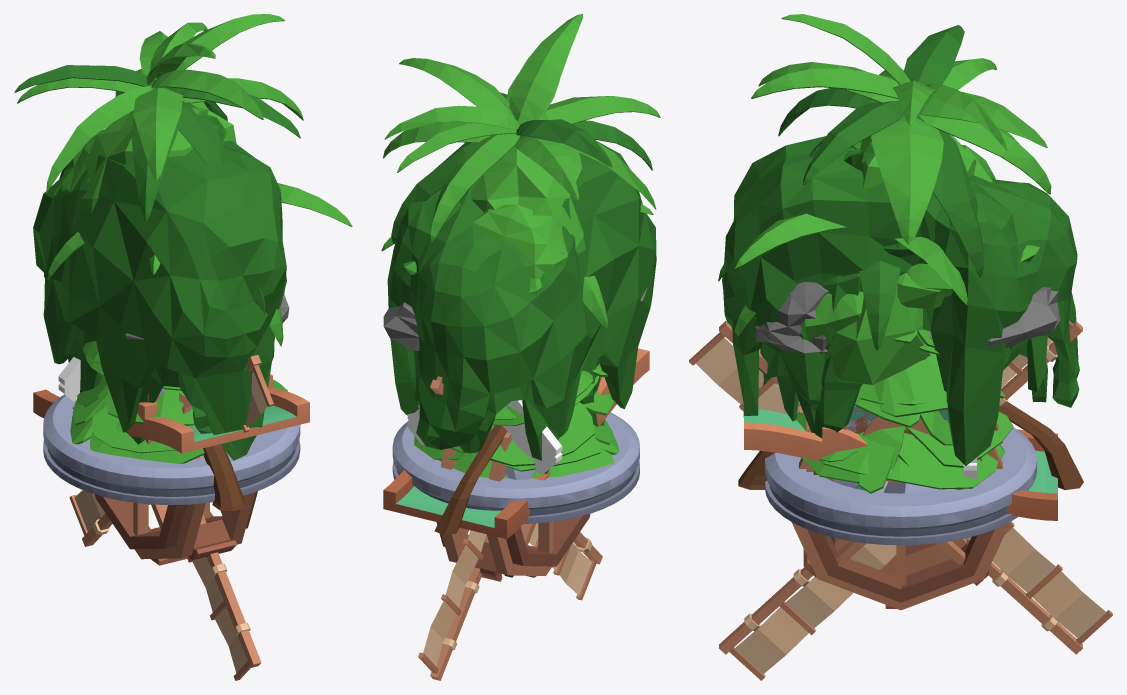
File: world.glb
The picture shows the model from 3 angles, left to right: view 1: azimuth 30°, elevation 25°; view 2: azimuth 150°, elevation 25°; view 3: azimuth 270°, elevation 25°; orthographic projection. The views are drawn at different scales.
Visible parts, largest first — view 1: n_Willow_2, n_PalmTree_1, t_fountain-round-detail, t_watermill, t_windmill, g_ramp-large, t_fountain-round, n_BirchTree_1, n_Willow_1, n_PalmTree_2, n_PineTree_1, n_PineTree_3 (+2 smaller); view 2: n_Willow_2, n_PalmTree_1, t_fountain-round-detail, t_windmill, t_watermill, n_BirchTree_1, n_CommonTree_2, g_ramp-large, n_PalmTree_2, n_Willow_1, n_PineTree_2, n_PineTree_3 (+5 smaller); view 3: n_Willow_2, n_PalmTree_1, t_windmill, t_fountain-round-detail, t_watermill, n_PalmTree_2, n_BirchTree_1, n_PineTree_2, g_ramp-large, n_CommonTree_Autumn_1, n_Willow_1, n_PineTree_1 (+6 smaller).
Boxes of the visible parts, x1,y1,x2,y2 form: n_Willow_2: (33, 130, 286, 510); n_PalmTree_1: (14, 14, 303, 221); t_fountain-round-detail: (43, 394, 300, 505); t_watermill: (95, 456, 257, 565); t_windmill: (69, 355, 273, 680); g_ramp-large: (33, 388, 309, 453); t_fountain-round: (43, 425, 300, 505); n_BirchTree_1: (82, 102, 236, 213); n_Willow_1: (68, 327, 211, 444); n_PalmTree_2: (47, 183, 352, 346); n_PineTree_1: (72, 354, 277, 453); n_PineTree_3: (70, 341, 287, 463); n_Willow_2: (387, 140, 656, 449); n_PalmTree_1: (383, 14, 660, 243); t_fountain-round-detail: (392, 412, 639, 523); t_windmill: (418, 376, 602, 680); t_watermill: (436, 429, 590, 581); n_BirchTree_1: (470, 146, 585, 253); n_CommonTree_2: (403, 204, 571, 294); g_ramp-large: (383, 348, 649, 538); n_PalmTree_2: (381, 203, 653, 535); n_Willow_1: (459, 358, 604, 473); n_PineTree_2: (450, 391, 614, 466); n_PineTree_3: (439, 363, 619, 478); n_Willow_2: (722, 136, 1079, 489); n_PalmTree_1: (751, 14, 1051, 277); t_windmill: (689, 320, 1112, 680); t_fountain-round-detail: (765, 427, 1036, 545); t_watermill: (791, 423, 1010, 610); n_PalmTree_2: (718, 213, 1083, 490); n_BirchTree_1: (783, 134, 976, 384); n_PineTree_2: (796, 329, 1013, 483); g_ramp-large: (744, 382, 1057, 520); n_CommonTree_Autumn_1: (754, 282, 1060, 354); n_Willow_1: (759, 273, 1047, 438); n_PineTree_1: (819, 358, 1005, 489).
Bounding box in the file's own units: 6.33 × 13.88 × 8.09.
